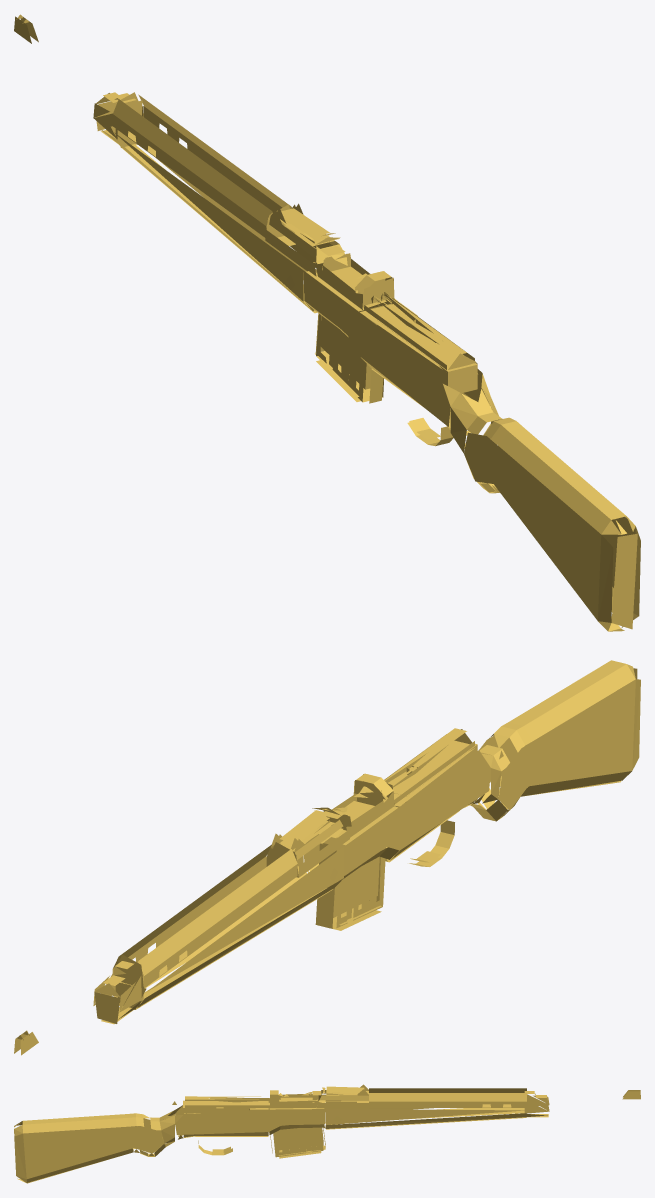
Rendered from charm_mst_fusil_3.glb.
The picture shows the model from 3 angles, top to bottom: view 1: azimuth 30°, elevation 25°; view 2: azimuth 150°, elevation 25°; view 3: azimuth 270°, elevation 25°; orthographic projection. The views are drawn at different scales.
Visible parts, largest first — view 1: p0_paint; view 2: p0_paint; view 3: p0_paint.
Boxes of the visible parts, <box> form: p0_paint: <box>14,14,640,631</box>; p0_paint: <box>14,660,640,1055</box>; p0_paint: <box>14,1084,640,1183</box>.
Bounding box in the file's own units: 0.0549 × 0.1867 × 1.12.
